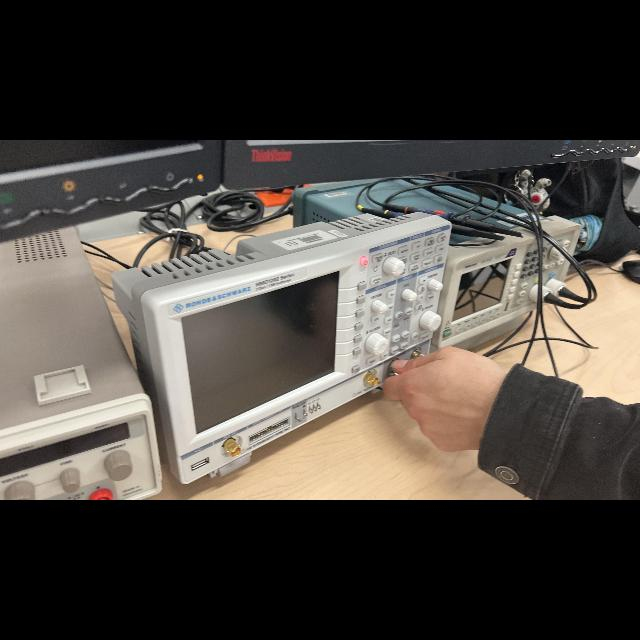Digital-Oscilloscope: (111, 213, 450, 483)
